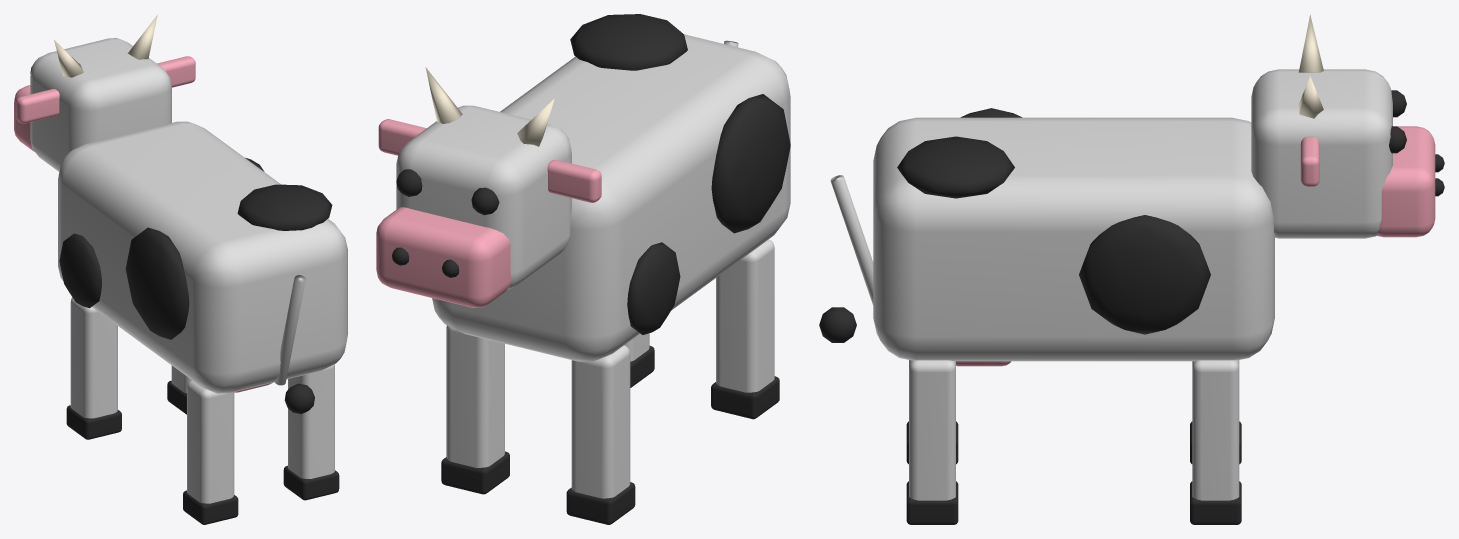
File: cow.glb
3 views of the same model, side by side, from view 1: azimuth 30°, elevation 25°; view 2: azimuth 150°, elevation 25°; view 3: azimuth 270°, elevation 25° (orthographic). The views are drawn at different scales.
Parts seen in each view (by area): view 1: Cow; view 2: Cow; view 3: Cow.
Part boxes in pixels (x1,y1,x2,y2): Cow: (14,14,347,524); Cow: (376,14,790,524); Cow: (819,14,1444,524).
Size of the model in its own units: 1.11 by 2.06 by 2.65.
